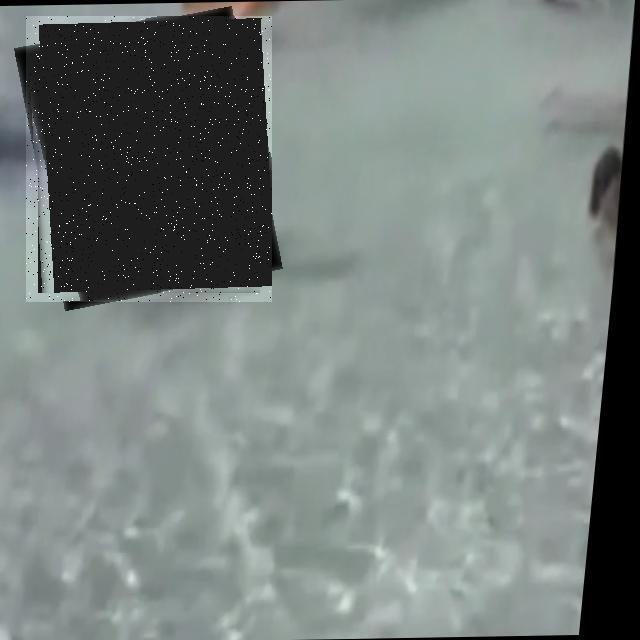swimming: (26, 16, 272, 302)
